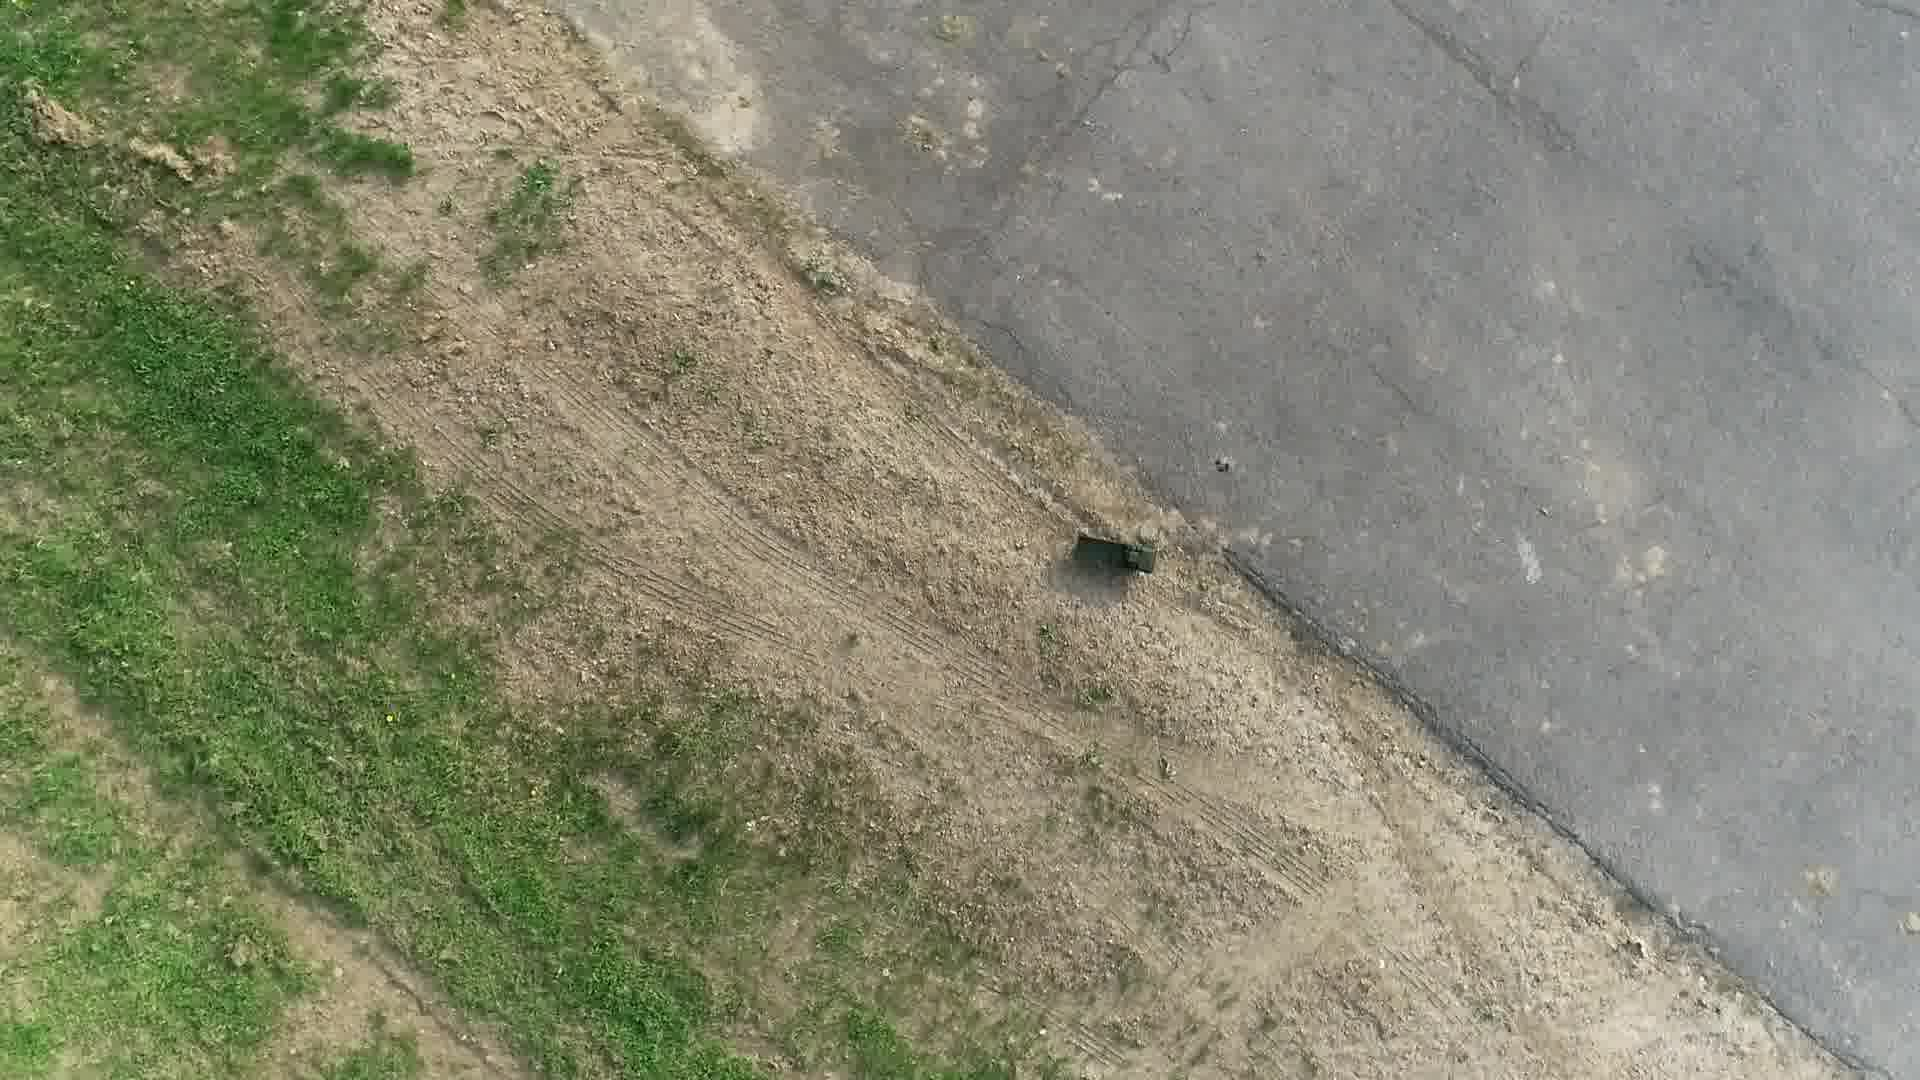transporter9: (1069, 529, 1164, 578)
